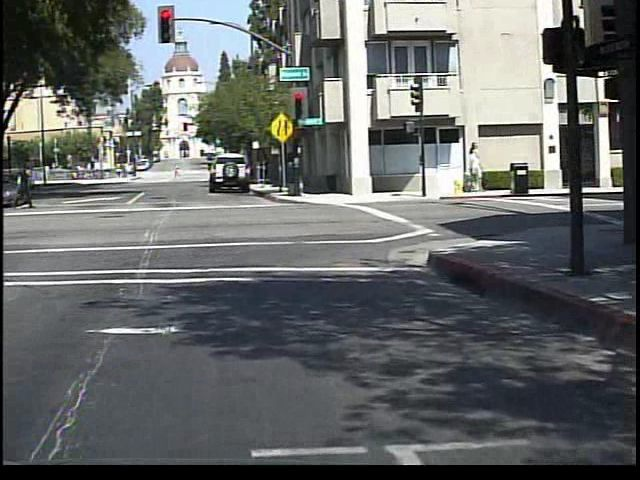person: (7, 167, 35, 222), (14, 163, 37, 209), (175, 163, 185, 180)
